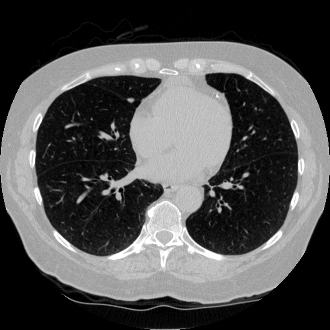nodule: (126, 95, 134, 103)
